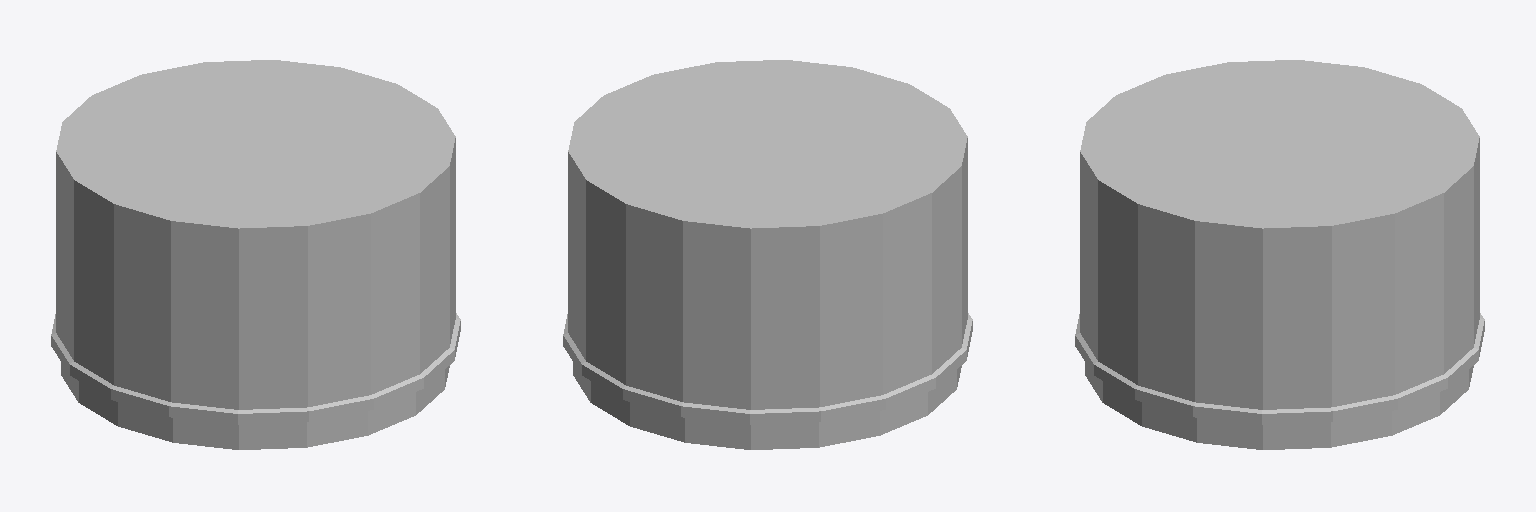
File: Tank_Large.obj
The picture shows the model from 3 angles: view 1: azimuth 30°, elevation 25°; view 2: azimuth 150°, elevation 25°; view 3: azimuth 270°, elevation 25°; orthographic projection.
Visible parts, largest first — view 1: Liquid_reservoir_1; view 2: Liquid_reservoir_1; view 3: Liquid_reservoir_1.
Part boxes in pixels (x1,y1,x2,y2): Liquid_reservoir_1: (51,60,460,449); Liquid_reservoir_1: (563,60,972,449); Liquid_reservoir_1: (1075,60,1484,449).
Bounding box in the file's own units: 10.65 × 6.42 × 10.65.